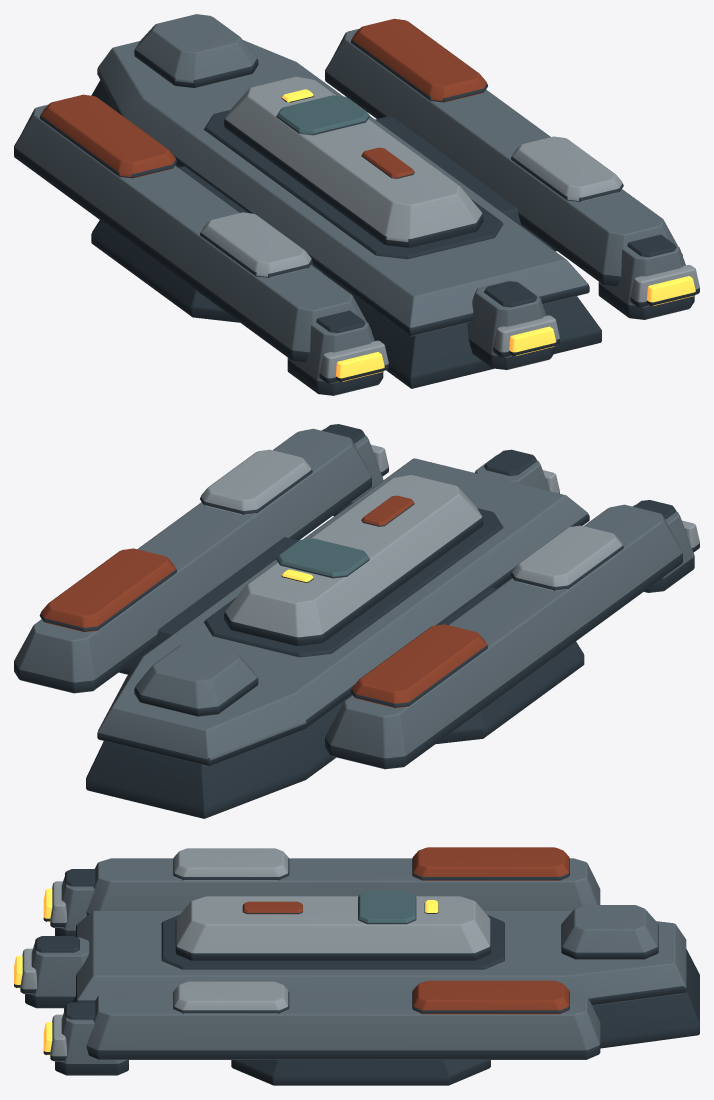
The model's file is enemy-large-6slot.glb.
3 views of the same model, one above another, from view 1: azimuth 30°, elevation 25°; view 2: azimuth 150°, elevation 25°; view 3: azimuth 270°, elevation 25° (orthographic). The views are drawn at different scales.
Parts seen in each view (by area): view 1: Armored deck, Long sponson, Long sponson.001, Command spine, Graphite keel, Outrigger bridge, Raised bow shield, Rust prow panel, Rust prow panel.001, Recessed command well, Aft segmented plate.001, Aft segmented plate (+14 smaller); view 2: Armored deck, Long sponson, Long sponson.001, Command spine, Graphite keel, Outrigger bridge, Raised bow shield, Rust prow panel, Rust prow panel.001, Recessed command well, Aft segmented plate, Aft segmented plate.001 (+6 smaller); view 3: Long sponson.001, Armored deck, Command spine, Long sponson, Outrigger bridge, Rust prow panel.001, Rust prow panel, Graphite keel, Raised bow shield, Recessed command well, Aft segmented plate, Aft segmented plate.001 (+11 smaller).
Part boxes in pixels (x1=…): Armored deck: x1=97, y1=40, x2=589, y2=336; Long sponson: x1=14, y1=104, x2=371, y2=362; Long sponson.001: x1=325, y1=28, x2=682, y2=286; Command spine: x1=224, y1=76, x2=483, y2=247; Graphite keel: x1=91, y1=80, x2=601, y2=388; Outrigger bridge: x1=91, y1=115, x2=556, y2=322; Raised bow shield: x1=134, y1=14, x2=258, y2=88; Rust prow panel: x1=39, y1=94, x2=176, y2=178; Rust prow panel.001: x1=351, y1=18, x2=487, y2=102; Recessed command well: x1=204, y1=110, x2=503, y2=259; Aft segmented plate.001: x1=511, y1=136, x2=623, y2=201; Aft segmented plate: x1=200, y1=212, x2=312, y2=277; Armored deck: x1=97, y1=458, x2=589, y2=766; Long sponson: x1=325, y1=504, x2=682, y2=769; Long sponson.001: x1=14, y1=428, x2=371, y2=693; Command spine: x1=224, y1=475, x2=483, y2=645; Graphite keel: x1=86, y1=577, x2=512, y2=818; Outrigger bridge: x1=119, y1=537, x2=584, y2=743; Raised bow shield: x1=134, y1=642, x2=258, y2=716; Rust prow panel: x1=350, y1=624, x2=487, y2=707; Rust prow panel.001: x1=39, y1=548, x2=176, y2=632; Recessed command well: x1=204, y1=508, x2=503, y2=657; Aft segmented plate: x1=511, y1=525, x2=623, y2=590; Aft segmented plate.001: x1=200, y1=449, x2=312, y2=514; Long sponson.001: x1=86, y1=991, x2=600, y2=1059; Armored deck: x1=76, y1=911, x2=686, y2=1005; Command spine: x1=175, y1=896, x2=490, y2=960; Long sponson: x1=86, y1=858, x2=600, y2=915; Outrigger bridge: x1=231, y1=1060, x2=490, y2=1085; Rust prow panel.001: x1=412, y1=980, x2=569, y2=1014; Rust prow panel: x1=412, y1=847, x2=569, y2=880; Graphite keel: x1=64, y1=949, x2=699, y2=1048; Raised bow shield: x1=561, y1=905, x2=658, y2=959; Recessed command well: x1=161, y1=914, x2=504, y2=969; Aft segmented plate: x1=173, y1=848, x2=289, y2=880; Aft segmented plate.001: x1=173, y1=981, x2=289, y2=1013.
Size of the model in its own units: 4.3 by 1.25 by 7.39.
